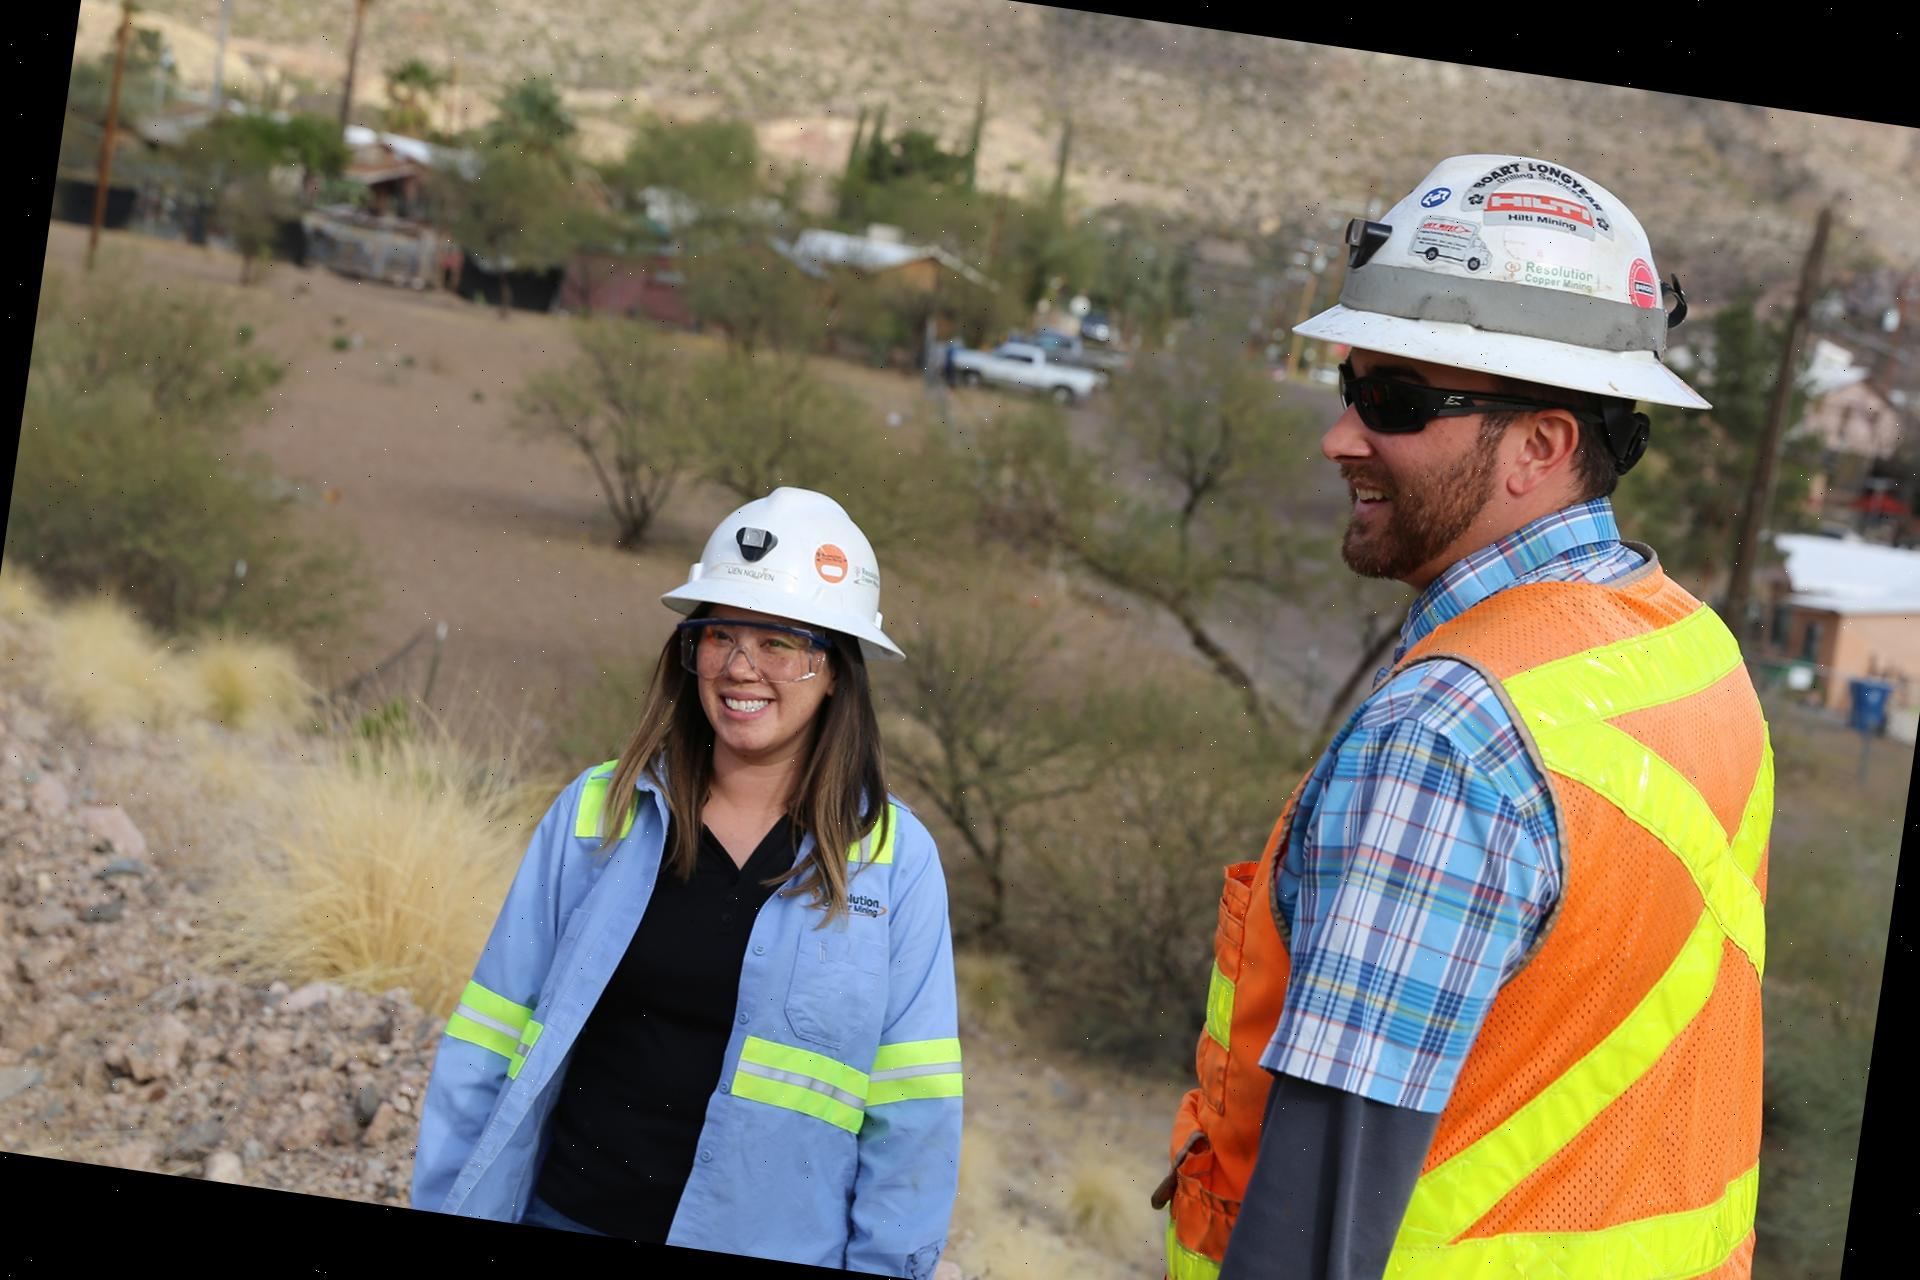helmet: (1283, 126, 1751, 429), (657, 469, 936, 676)
wear: (1149, 536, 1834, 1280), (423, 739, 991, 1280)
